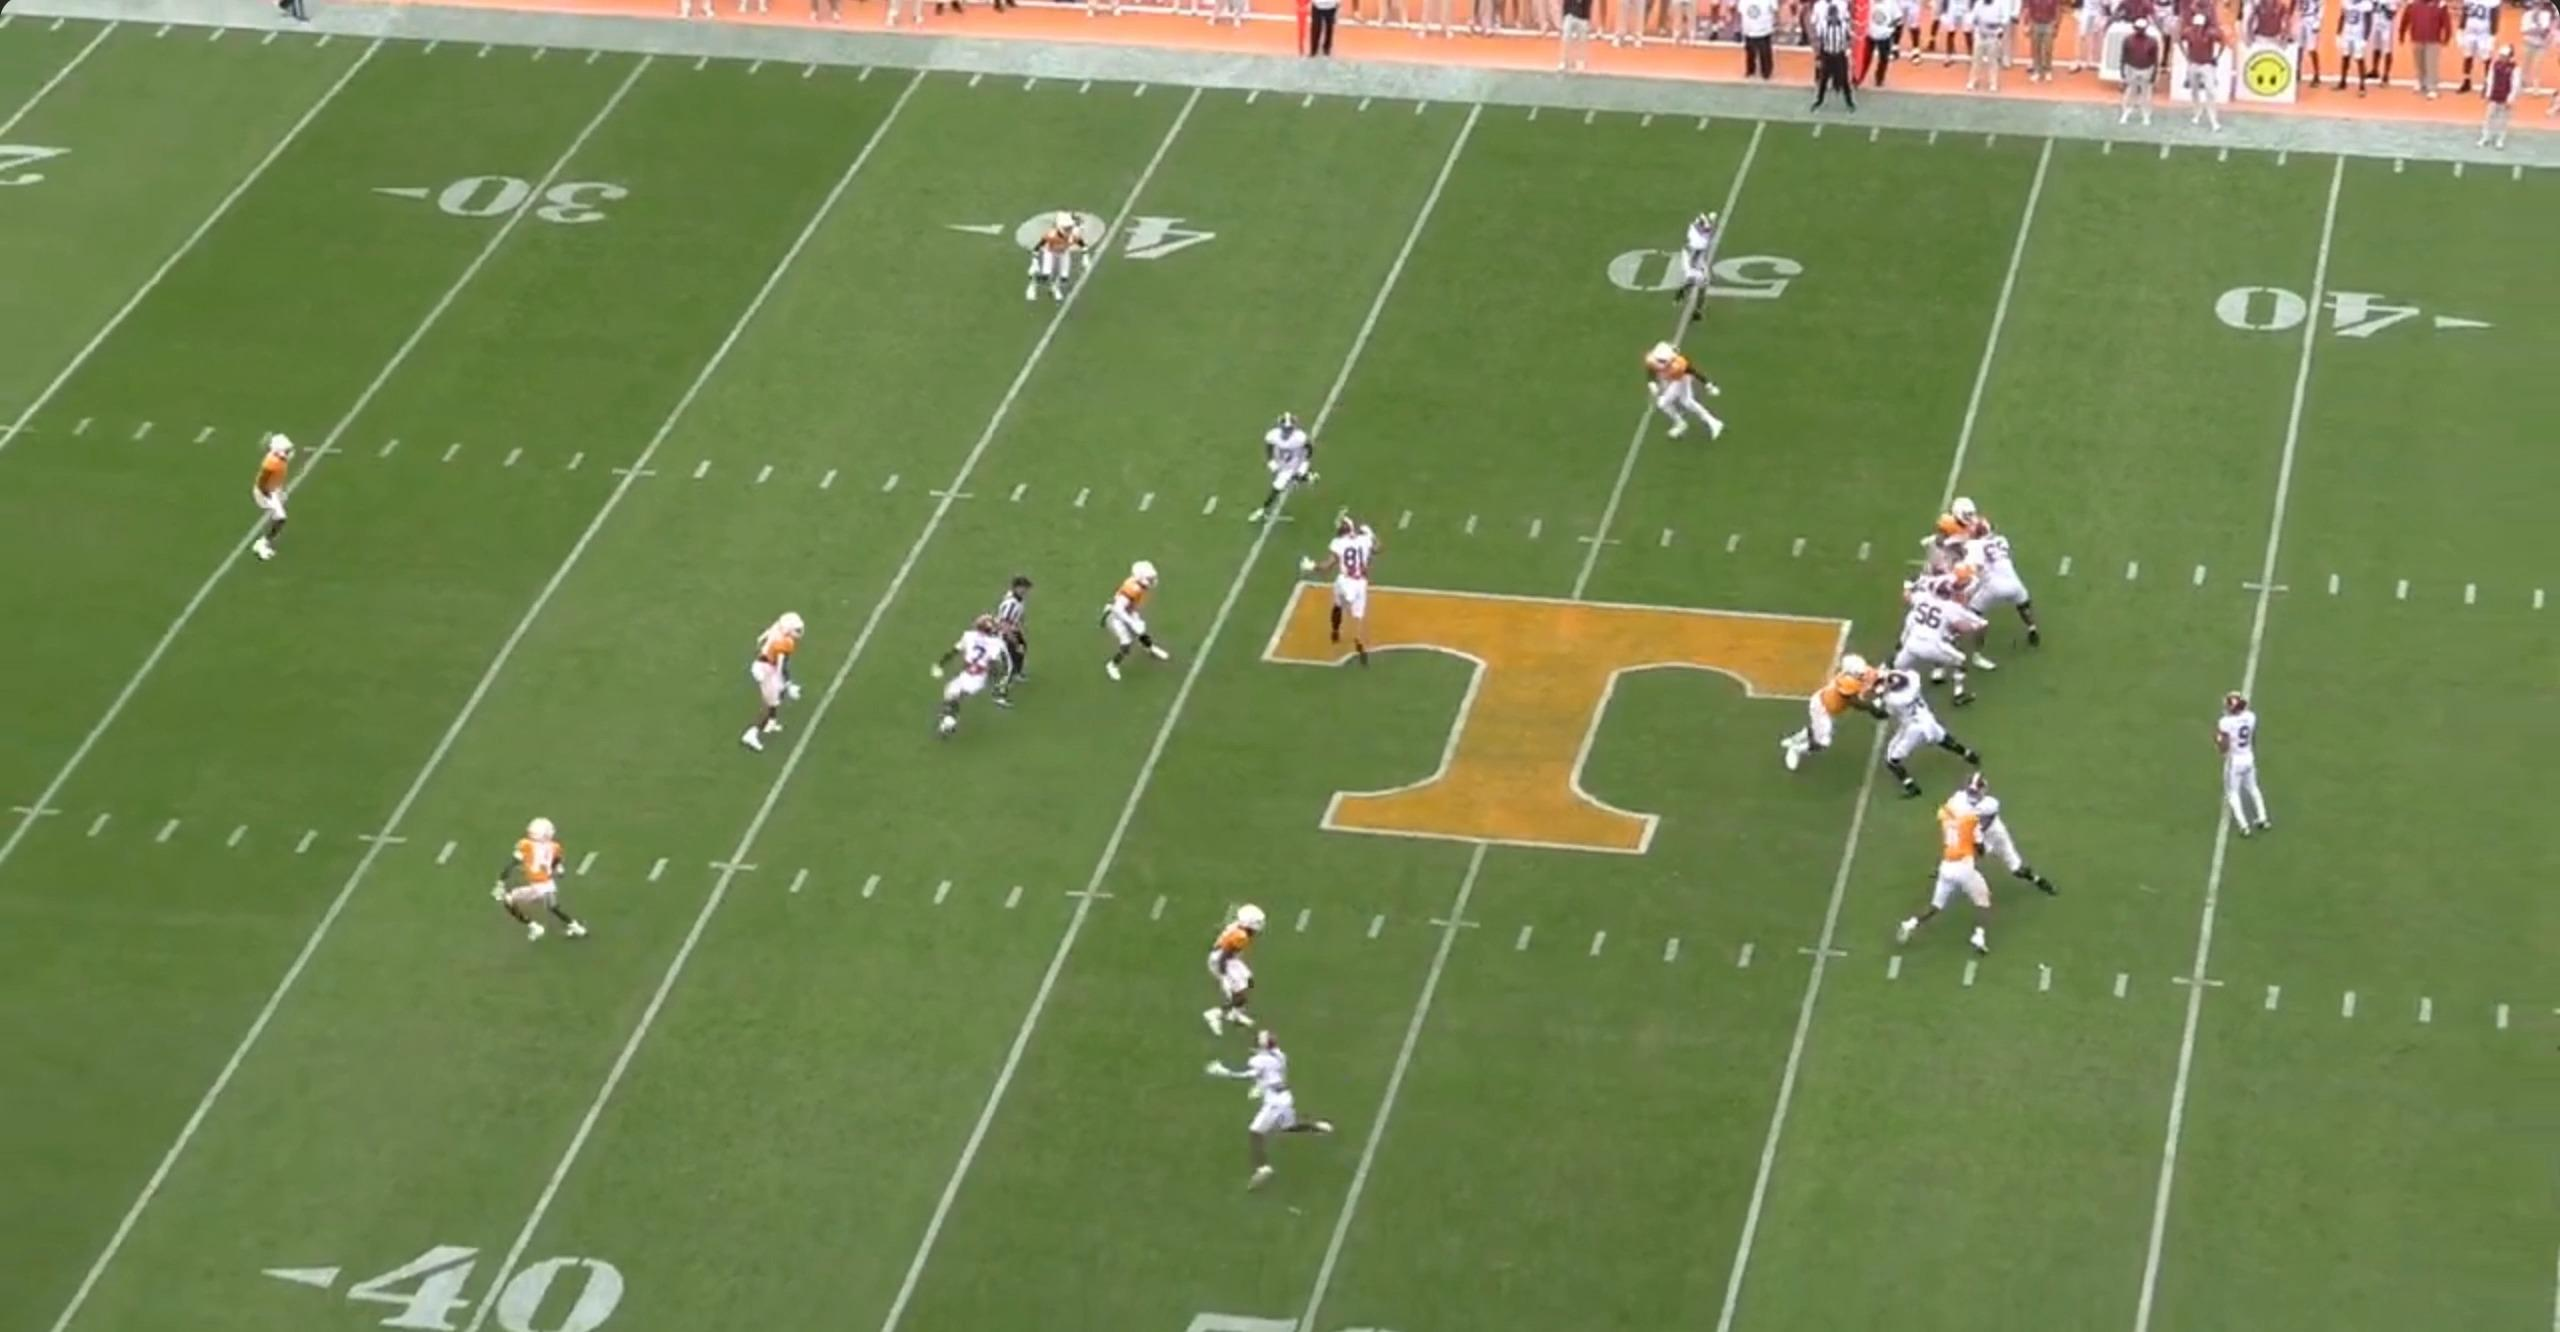defense: (1890, 790, 2000, 960), (1768, 653, 1876, 782), (489, 812, 589, 951), (726, 606, 803, 757), (1200, 894, 1272, 1039), (1104, 553, 1182, 685), (1639, 337, 1729, 442), (249, 432, 310, 570), (1014, 203, 1082, 308), (1950, 548, 1996, 674), (1920, 491, 1991, 557)
oline: (1942, 782, 2055, 909), (1879, 669, 1984, 797), (1950, 520, 2040, 648), (1893, 579, 1976, 709), (1915, 559, 1956, 592)
qb: (2210, 687, 2284, 839)
ref: (1803, 0, 1873, 118), (997, 574, 1046, 702)
skill: (1200, 1031, 1338, 1197), (1299, 516, 1385, 670), (933, 614, 1026, 746), (1250, 410, 1321, 525), (1668, 212, 1729, 328)
